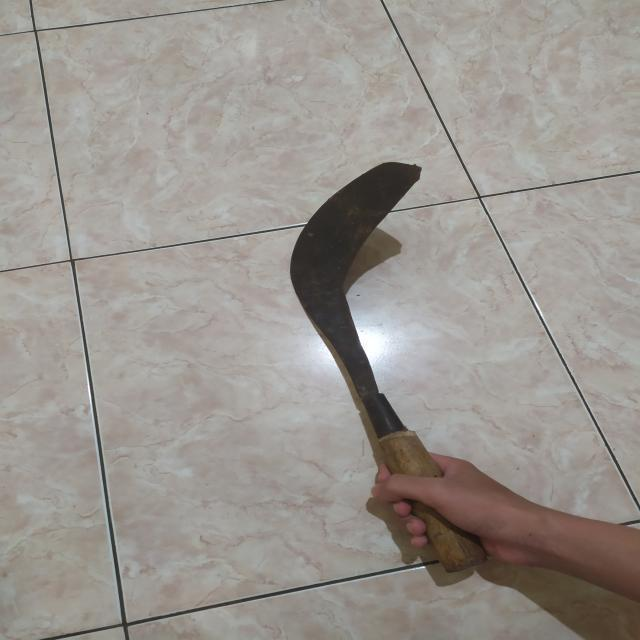Knife: (288, 162, 484, 564)
